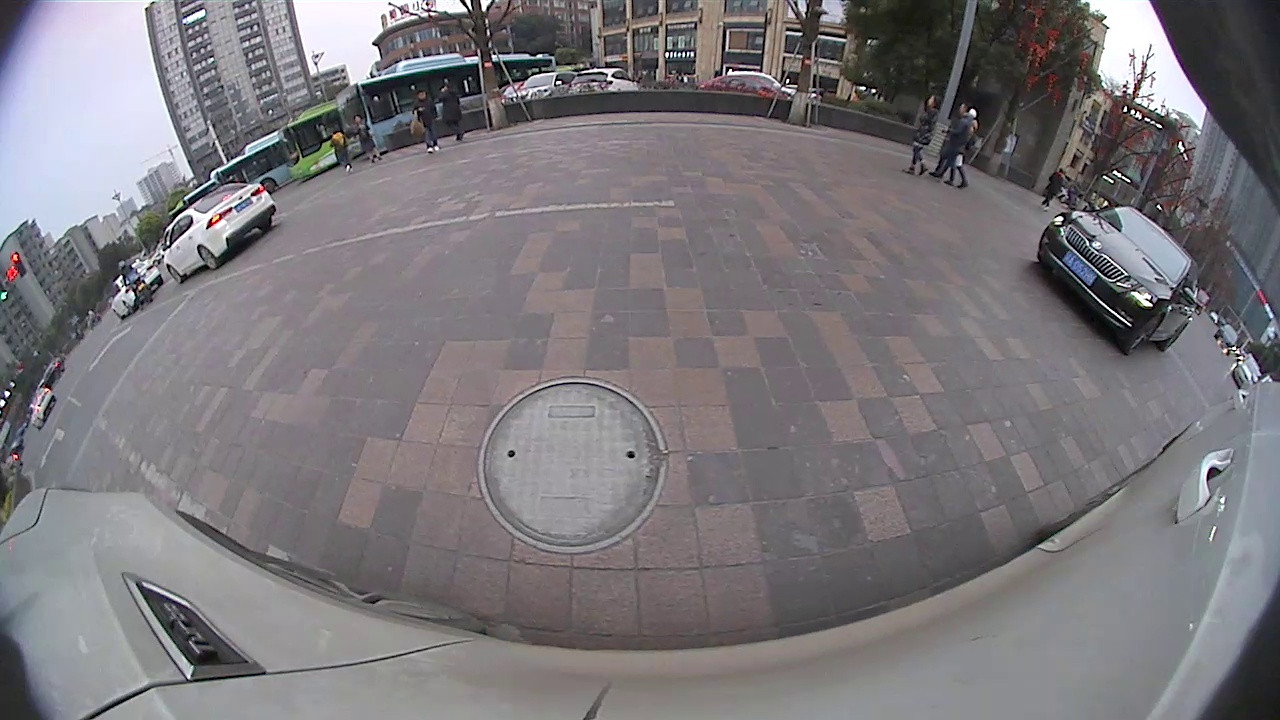bus: (332, 52, 557, 163), (282, 99, 343, 181)
car: (1036, 204, 1202, 356), (160, 180, 276, 283)
front: (1122, 310, 1166, 357)
person: (920, 93, 940, 177), (955, 102, 974, 188), (414, 88, 433, 155)
rear: (196, 244, 221, 272)
rider: (116, 260, 155, 309)
